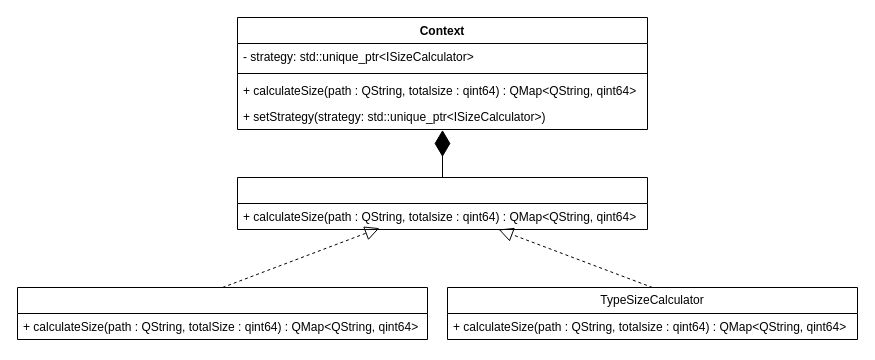
The diagram is 875 pixels wide and 360 high, and some of its shapes have lost their labels. The box of each missing label's shape, as (x1, y1, x2, y2) in pixels:
FolderSizeCalculator: (16, 286, 428, 340)
ISizeCalculator: (236, 176, 648, 230)
